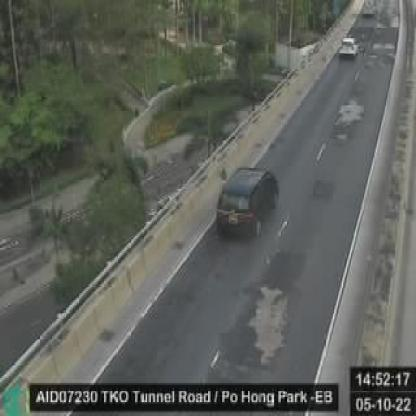Car: (216, 166, 278, 241), (340, 36, 358, 59)
